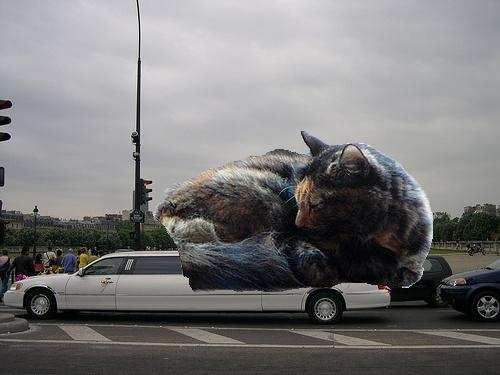tampered: (153, 132, 433, 292)
